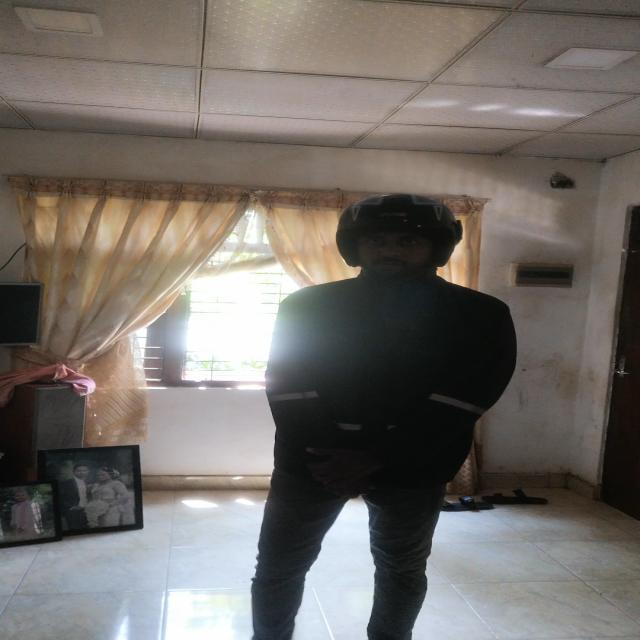Helmet_Wearer: (333, 189, 470, 293)
Jacket_Wearer: (262, 272, 505, 498)
Person: (253, 196, 513, 640)
